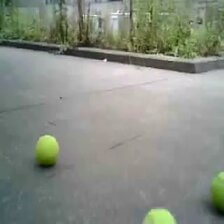tennis: (36, 135, 59, 168), (139, 210, 177, 224), (210, 171, 224, 208)
